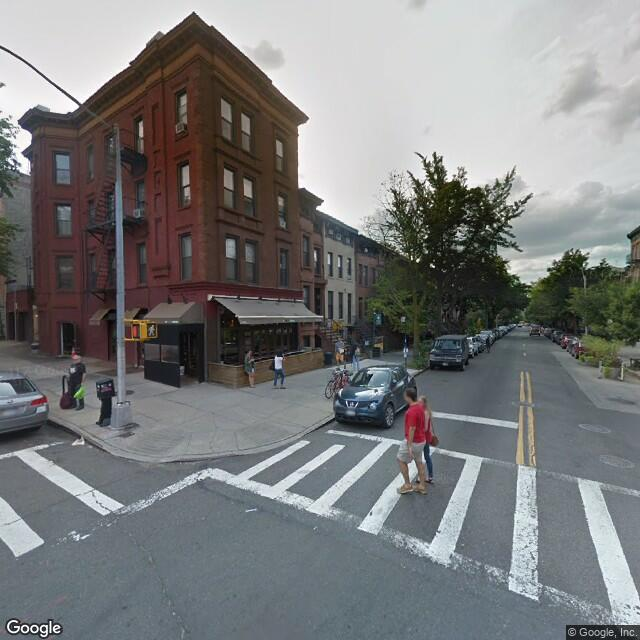litter: (71, 437, 83, 446), (245, 506, 258, 512)
